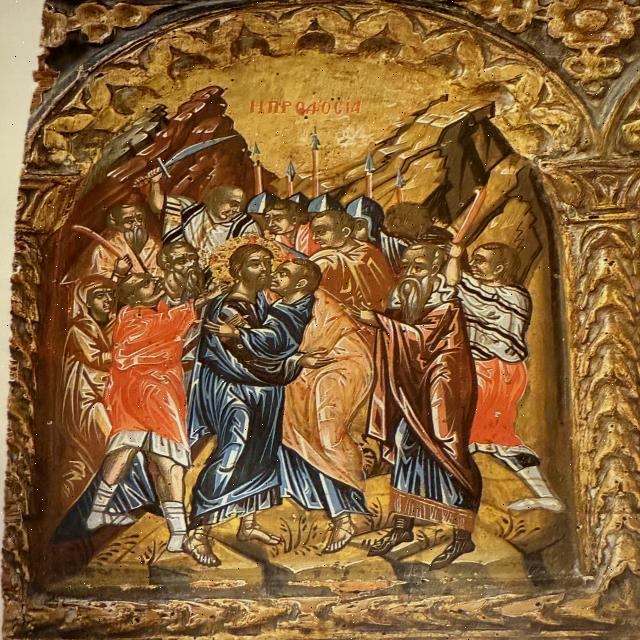aura: (206, 236, 286, 290)
christ: (200, 235, 294, 561)
spear: (353, 144, 384, 198), (307, 129, 329, 187), (244, 139, 266, 195), (385, 160, 413, 200), (285, 157, 301, 197)
sword: (128, 130, 253, 185)
